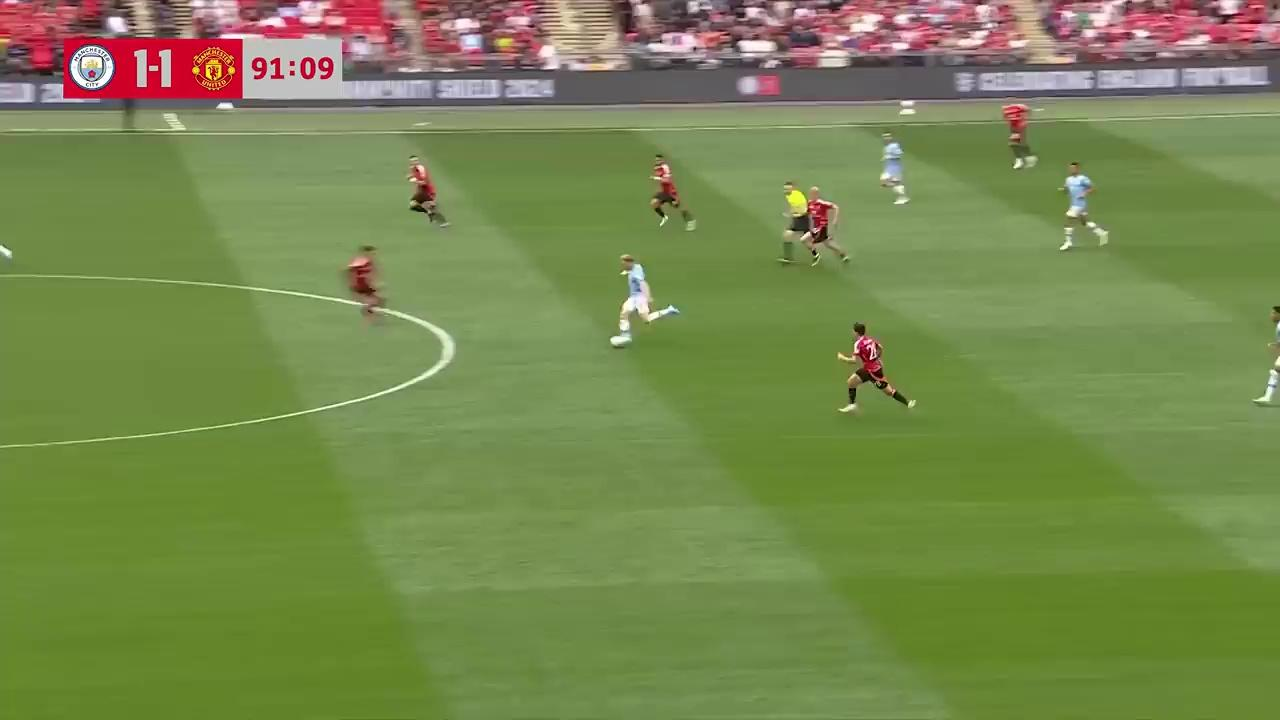ball: (609, 332, 626, 347)
player: (837, 322, 913, 413), (610, 253, 670, 348), (1056, 160, 1109, 253), (648, 153, 696, 229), (804, 188, 849, 266), (342, 245, 385, 322), (406, 156, 449, 227), (1252, 301, 1280, 405), (1001, 100, 1035, 169), (878, 131, 909, 205), (0, 208, 12, 272)
referee: (779, 183, 819, 265)
